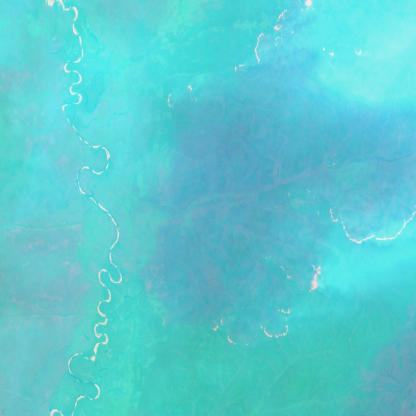fire: (210, 193, 416, 356), (245, 0, 366, 77)
